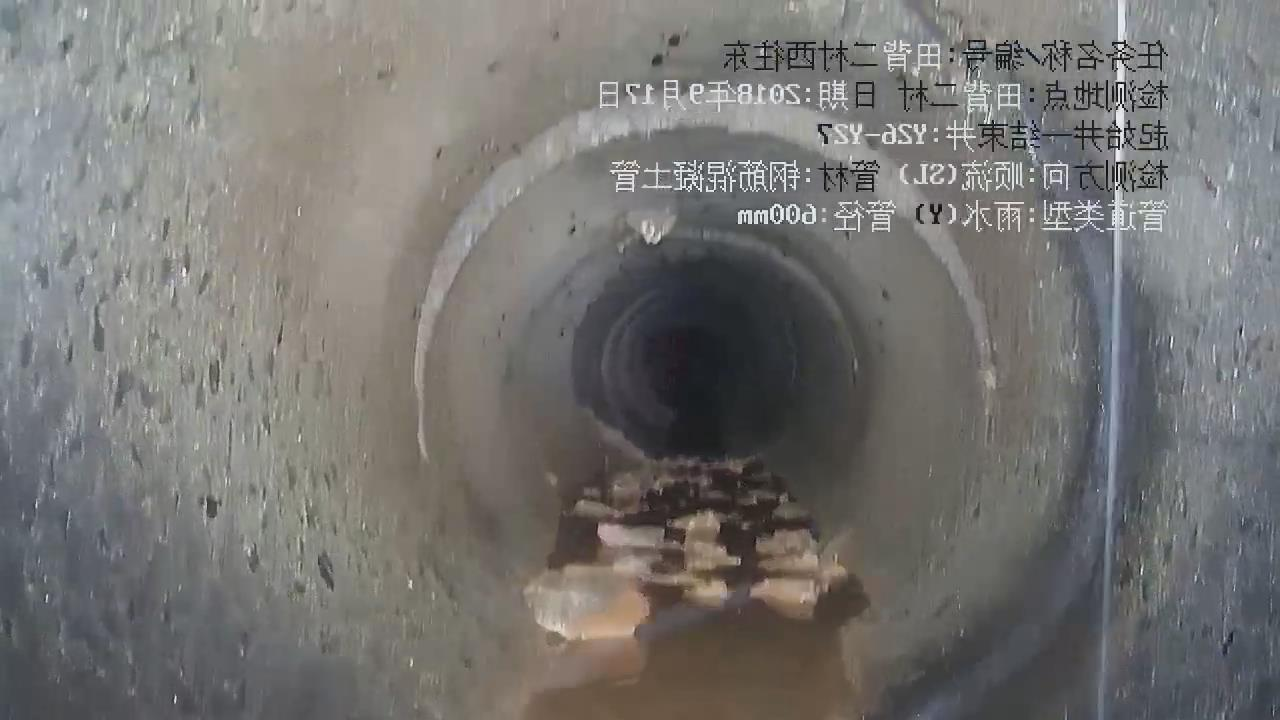CJ: (526, 456, 860, 643)
CKTJ: (403, 78, 1012, 472)
SL: (1065, 0, 1144, 720)
